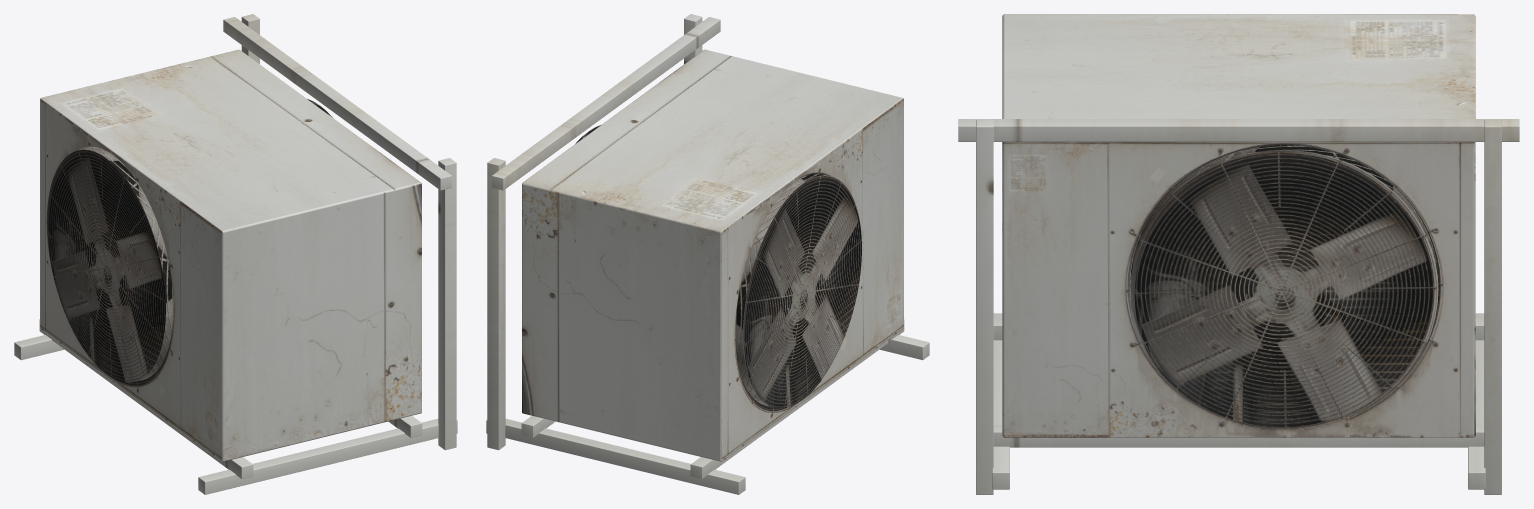
Rendered from uploads_files_4057367_air.fbx.
3 views of the same model, side by side, from view 1: azimuth 30°, elevation 25°; view 2: azimuth 150°, elevation 25°; view 3: azimuth 270°, elevation 25° (orthographic). The views are drawn at different scales.
Visible parts, largest first — view 1: Cube, Cylinder, Cube.004, Cube.005, Cube.007, Cube.006, Cube.002; view 2: Cube, Cylinder, Cube.004, Cube.003, Cube.002, Cube.006, Cube.007; view 3: Cube, Cylinder, Cube.004, Cube.003, Cube.005, Cube.001, Cube.002, Cube.007.
Boxes of the visible parts, left/top/right/bottom form: Cube: left=40, top=49, right=421, bottom=461; Cylinder: left=46, top=99, right=332, bottom=382; Cube.004: left=223, top=17, right=451, bottom=190; Cube.005: left=438, top=158, right=456, bottom=450; Cube.007: left=198, top=419, right=457, bottom=494; Cube.006: left=39, top=319, right=253, bottom=478; Cube.002: left=14, top=335, right=63, bottom=360; Cube: left=522, top=49, right=903, bottom=461; Cylinder: left=575, top=125, right=861, bottom=408; Cube.004: left=492, top=17, right=720, bottom=190; Cube.003: left=487, top=158, right=505, bottom=450; Cube.002: left=486, top=419, right=745, bottom=494; Cube.006: left=690, top=319, right=904, bottom=478; Cube.007: left=880, top=335, right=929, bottom=360; Cube: left=1002, top=14, right=1475, bottom=437; Cylinder: left=1130, top=145, right=1438, bottom=429; Cube.004: left=958, top=119, right=1519, bottom=141; Cube.003: left=1484, top=119, right=1501, bottom=494; Cube.005: left=976, top=119, right=993, bottom=494; Cube.001: left=993, top=425, right=1484, bottom=447; Cube.002: left=1468, top=313, right=1485, bottom=489; Cube.007: left=992, top=313, right=1009, bottom=489.
Bounding box in the file's own units: 252 × 272 × 376.
Materials: 1 (1 with a texture image).
